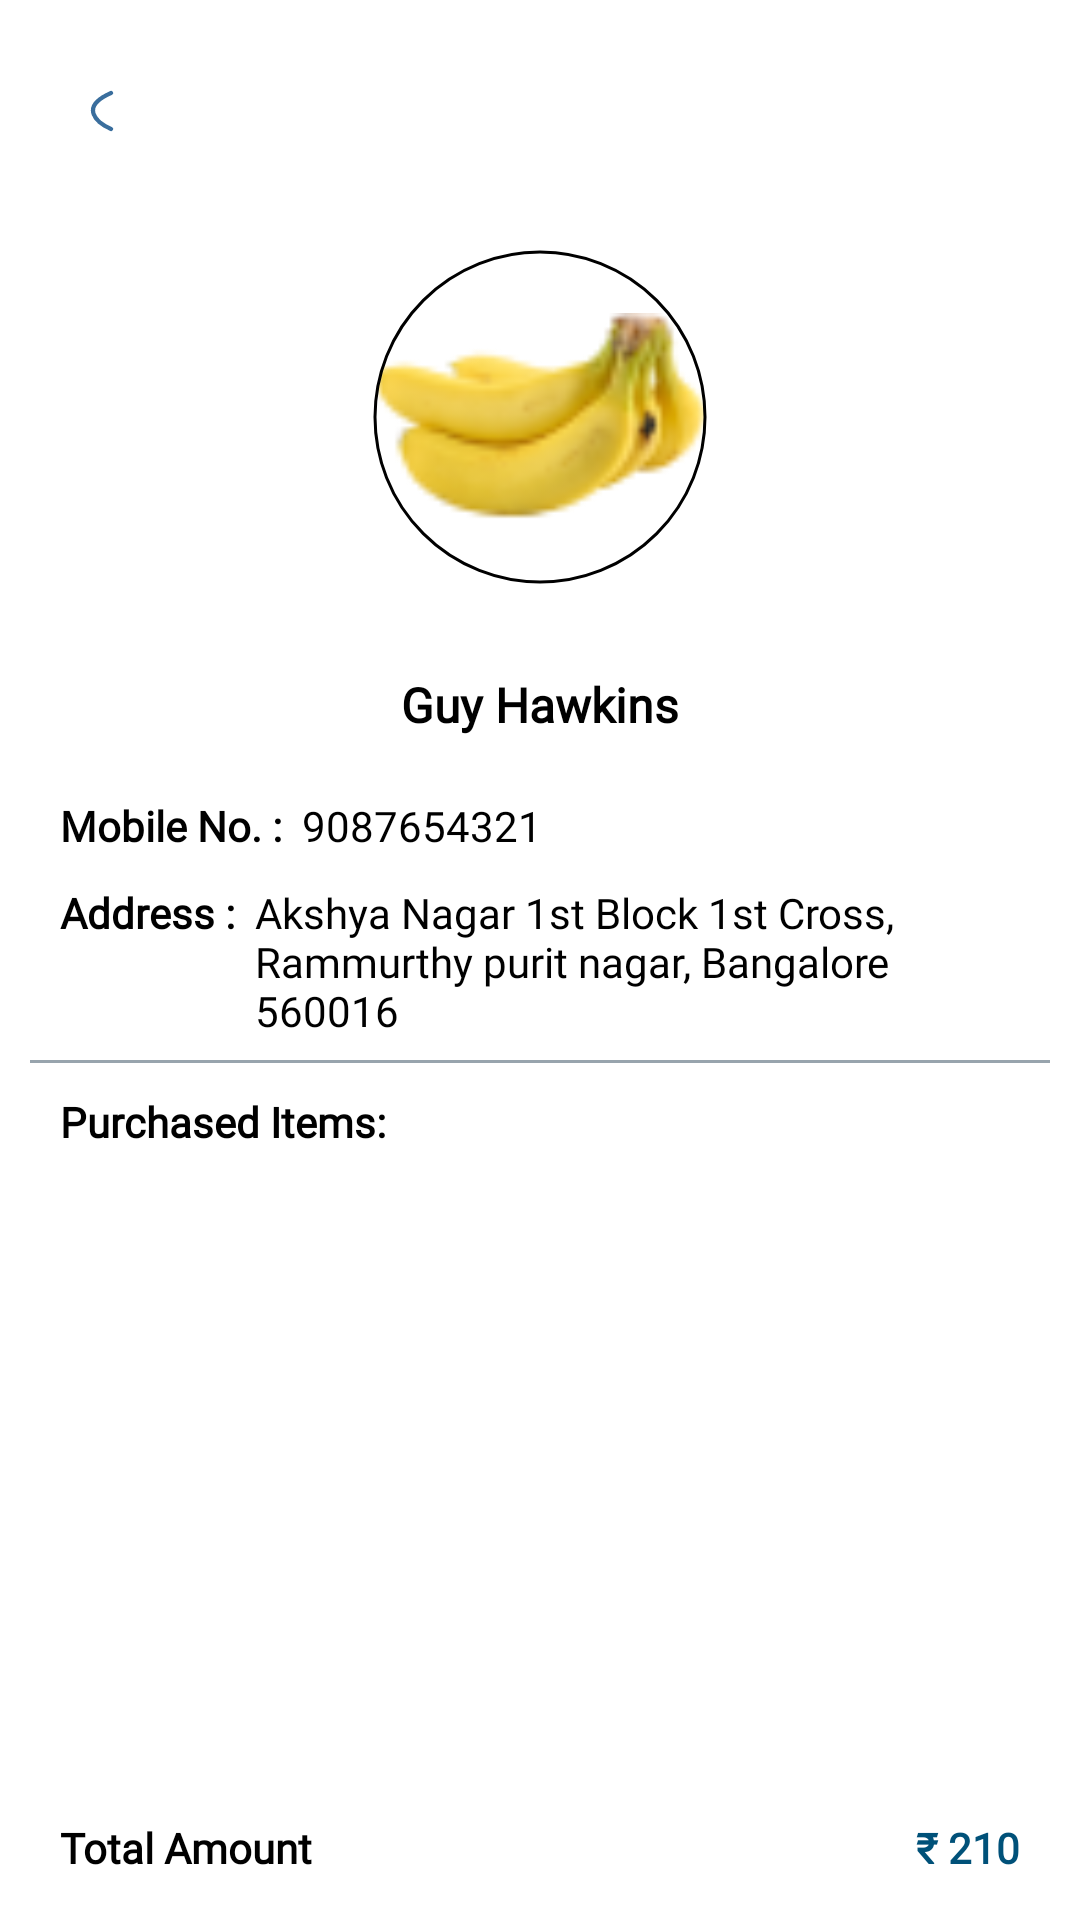

Icon click points for this 1080 x 1920 phone screenshot, format [x,y]:
back: [102,111]
banana: [540,417]
